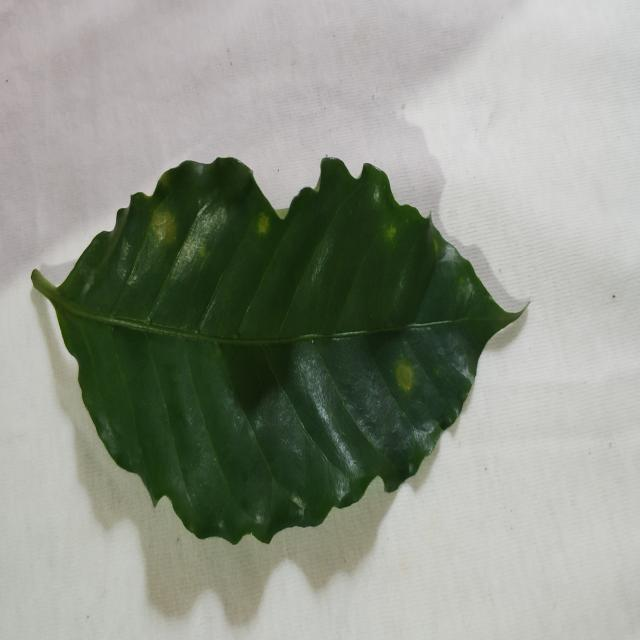Enfermedad-Roya: (30, 158, 529, 547)
